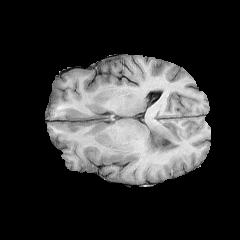glioma: (146, 119, 183, 152)
